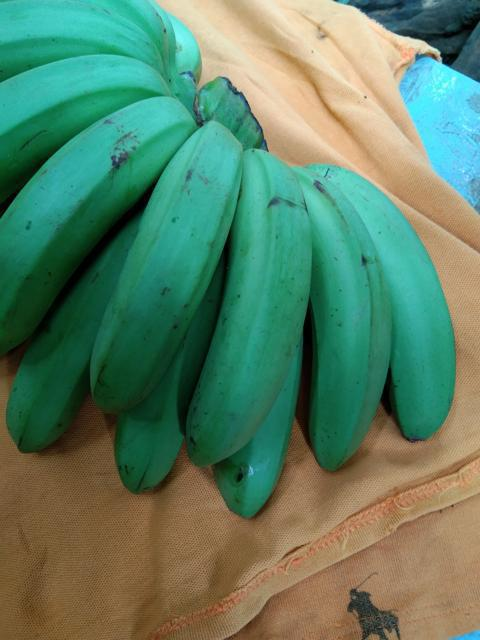freshunripe: (330, 150, 459, 437), (9, 206, 141, 459), (0, 50, 169, 176), (0, 0, 153, 70)
